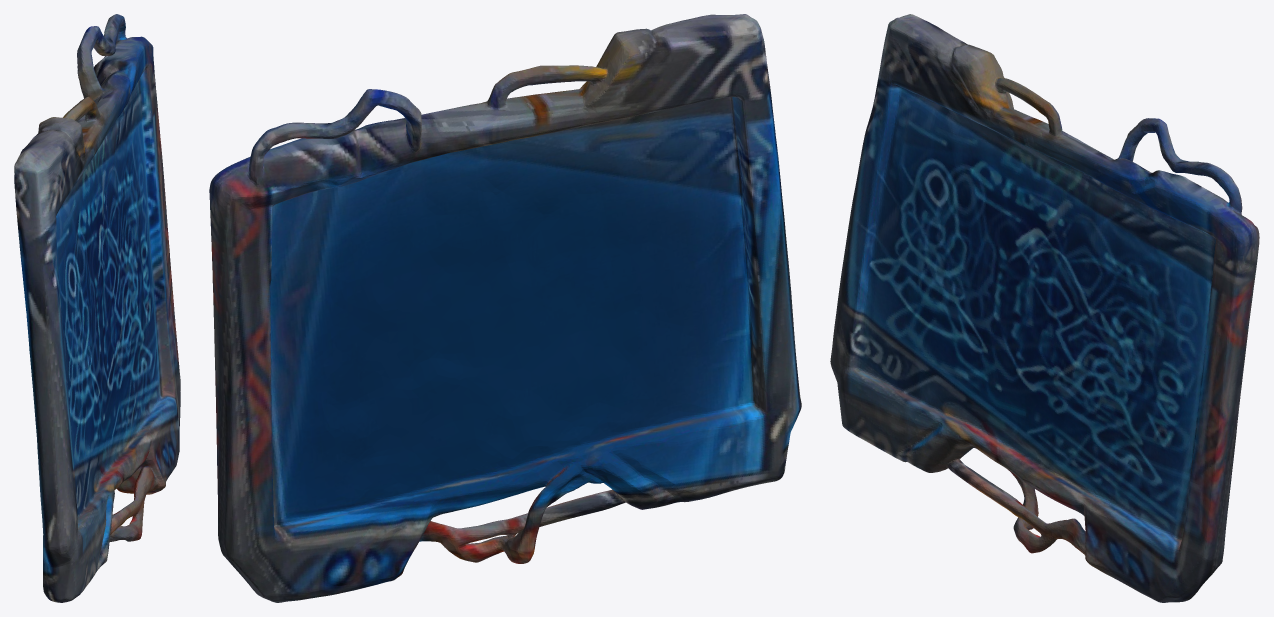
The model's file is fevorian_blueprints.glb.
3 views of the same model, side by side, from view 1: azimuth 30°, elevation 25°; view 2: azimuth 150°, elevation 25°; view 3: azimuth 270°, elevation 25° (orthographic). The views are drawn at different scales.
Bounding box in the file's own units: 1.41 × 1.99 × 1.68.
1 material, 1 textured.
